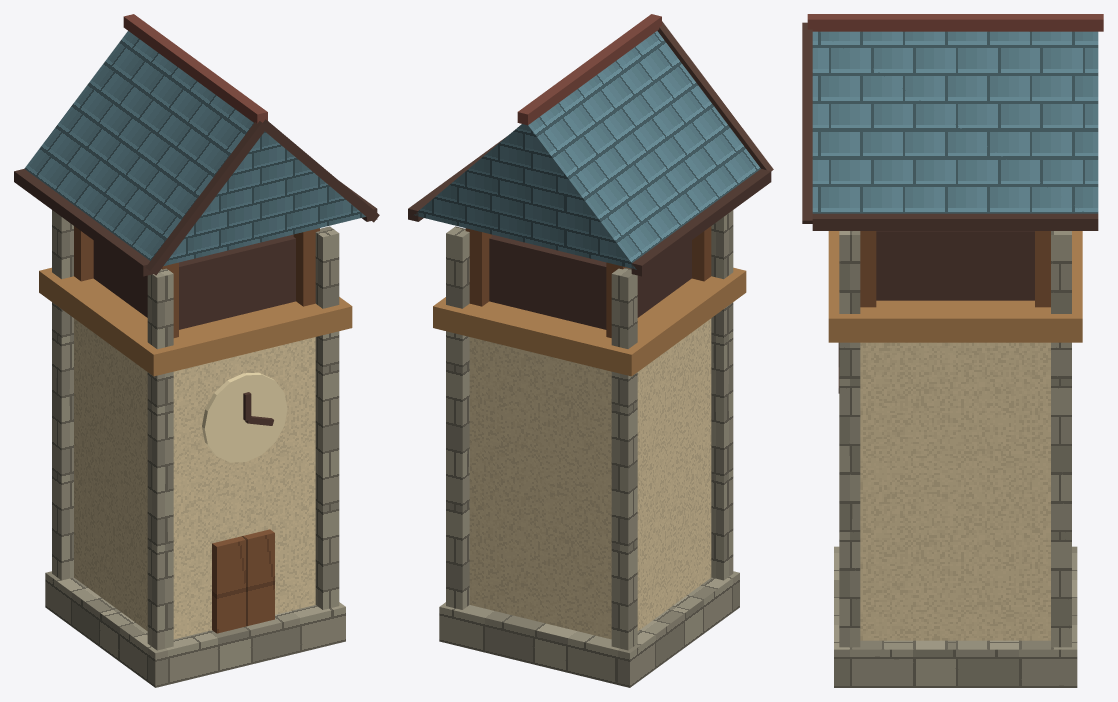
File: tower.glb
3 views of the same model, side by side, from view 1: azimuth 30°, elevation 25°; view 2: azimuth 150°, elevation 25°; view 3: azimuth 270°, elevation 25° (orthographic). The views are drawn at different scales.
Visible parts, largest first — view 1: village_tower; view 2: village_tower; view 3: village_tower.
Boxes of the visible parts, left/top/right/bottom form: village_tower: left=14, top=14, right=379, bottom=687; village_tower: left=408, top=14, right=773, bottom=687; village_tower: left=802, top=14, right=1103, bottom=687.
Bounding box in the file's own units: 56.5 × 129 × 57.
Materials: 10 (4 with a texture image).
